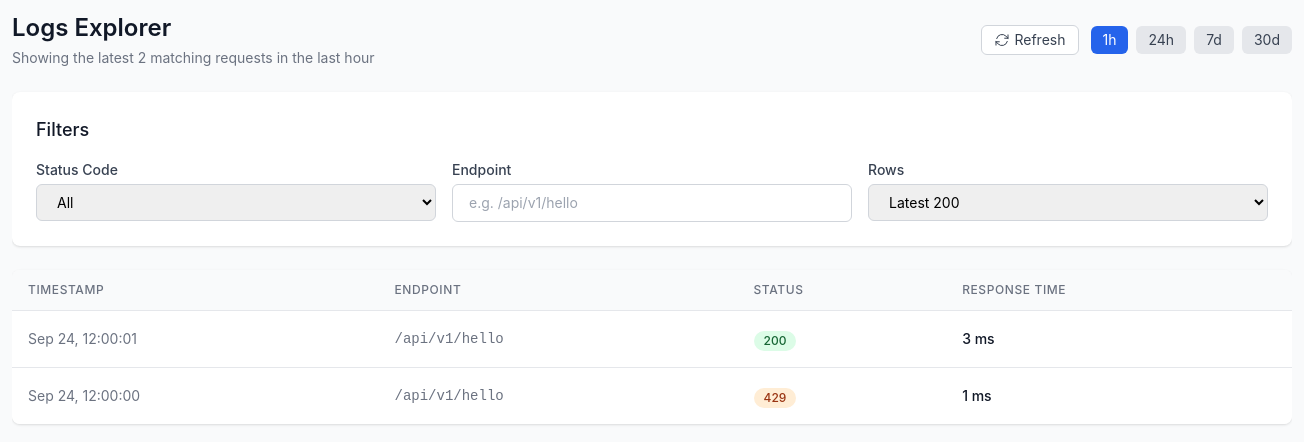
Scenario: LogsExplorer › non-admins get no user column or filter, and the endpoint filter is debounced
The image size is (1304, 442).
Expected: the text "Showing the latest 2 matching requests in the last hour" is shown, [12,48,375,68]
Type "/other" into the field labelled "Endpoint" at (652, 203), box [452,184,852,222]
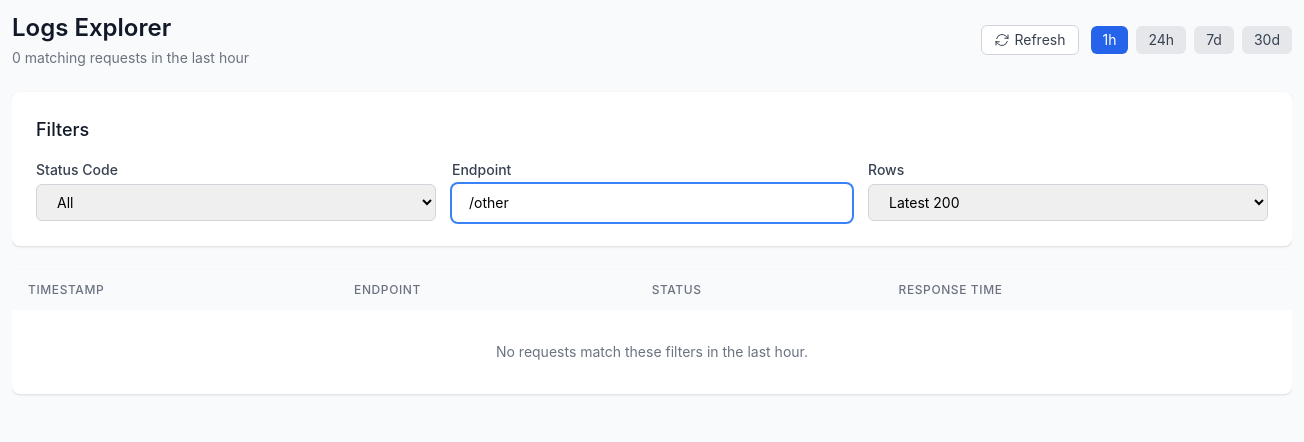
Now the text "No requests match these filters in the last hour." is shown, box [496,343,808,360]
